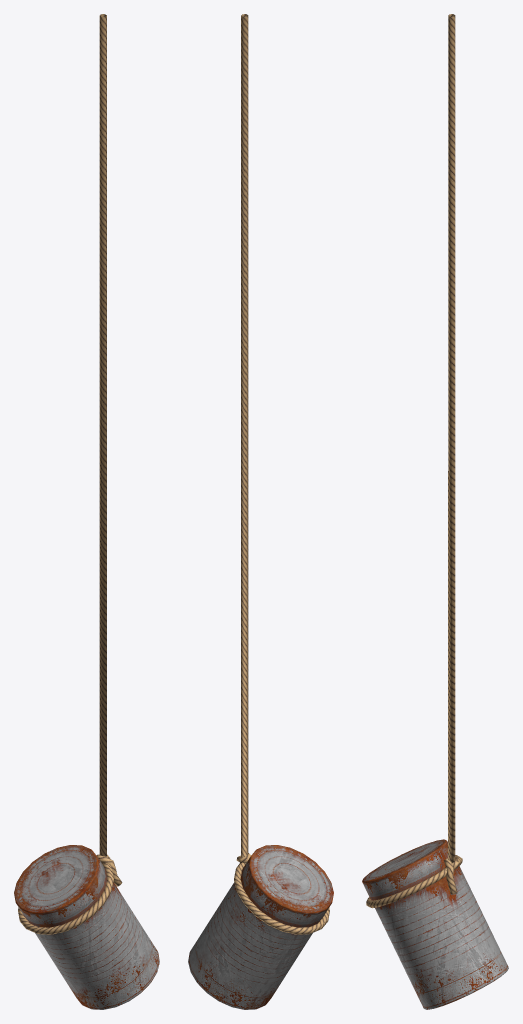
Rendered from TinCan 01.FBX.
3 renders of one model, left to right at view 1: azimuth 30°, elevation 25°; view 2: azimuth 150°, elevation 25°; view 3: azimuth 330°, elevation 25°, orthographic.
Parts seen in each view (by area): view 1: TinCan 01; view 2: TinCan 01; view 3: TinCan 01.
Boxes of the visible parts, bbox=[...] form: TinCan 01: bbox=[14, 14, 159, 1009]; TinCan 01: bbox=[188, 14, 333, 1009]; TinCan 01: bbox=[362, 14, 508, 1009].
Bounding box in the file's own units: 12.1 × 86.41 × 8.47.
Materials: 1 (1 with a texture image).
